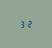three: (19, 20, 25, 28)
two: (26, 19, 32, 27)
